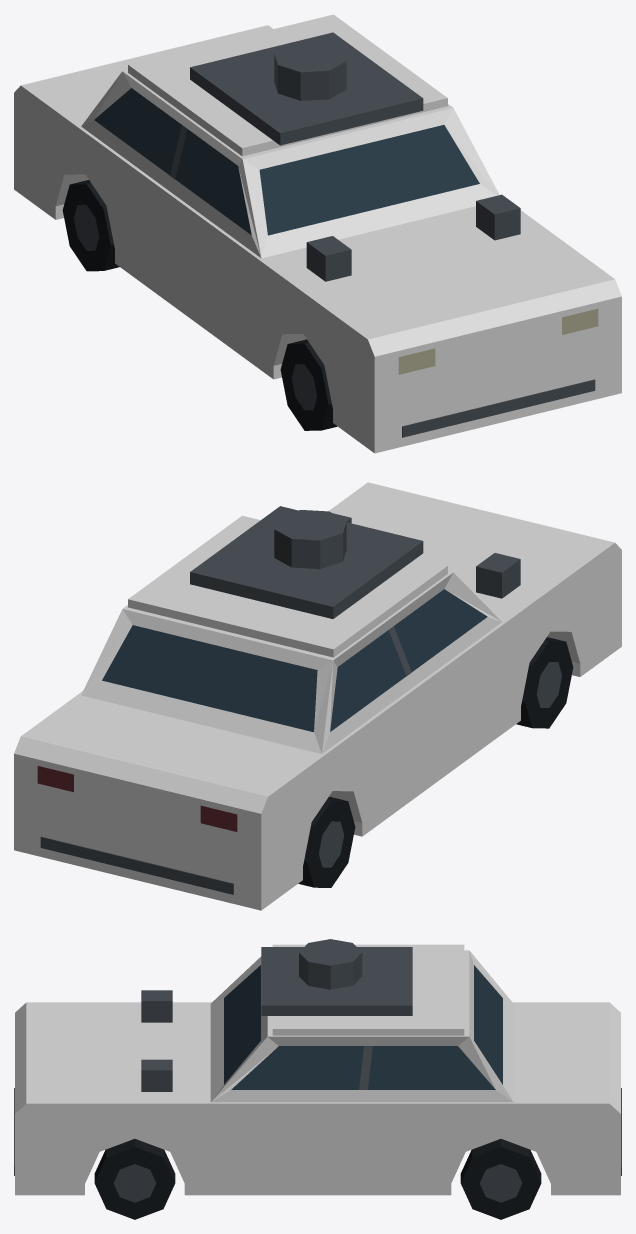
The model's file is robotaxi.glb.
3 views of the same model, one above another, from view 1: azimuth 30°, elevation 25°; view 2: azimuth 150°, elevation 25°; view 3: azimuth 270°, elevation 25° (orthographic). The views are drawn at different scales.
Visible parts, largest first — view 1: vehicle_body; view 2: vehicle_body; view 3: vehicle_body.
Part boxes in pixels (x1,y1,x2,y2): vehicle_body: (14, 14, 621, 453); vehicle_body: (14, 482, 621, 910); vehicle_body: (14, 939, 621, 1219).
Bounding box in the file's own units: 1.9 × 1.9 × 4.82.
